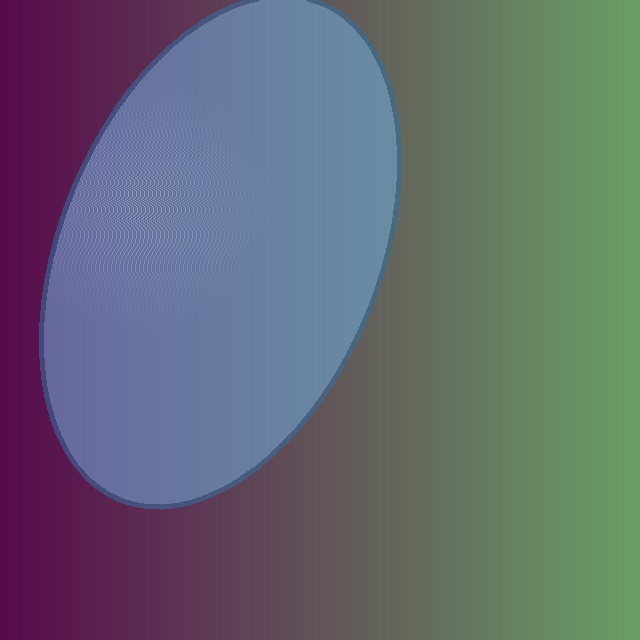lens: (41, 0, 399, 507)
